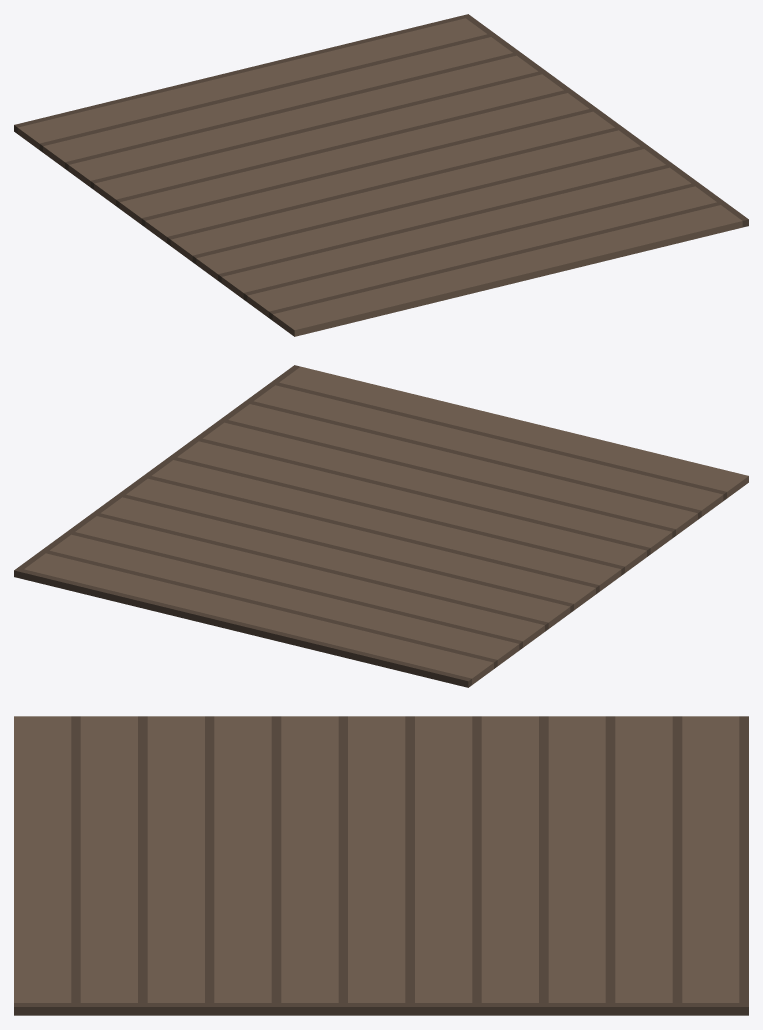
Rendered from tutorial.vox-28-floor_kitchen.obj.
The picture shows the model from 3 angles, top to bottom: view 1: azimuth 30°, elevation 25°; view 2: azimuth 150°, elevation 25°; view 3: azimuth 270°, elevation 25°; orthographic projection. The views are drawn at different scales.
Parts seen in each view (by area): view 1: floor_kitchen; view 2: floor_kitchen; view 3: floor_kitchen.
Boxes of the visible parts, x1,y1,x2,y2 form: floor_kitchen: [14, 14, 748, 336]; floor_kitchen: [14, 365, 748, 687]; floor_kitchen: [14, 716, 748, 1015].
Size of the model in its own units: 7.2 by 0.1 by 7.7.
1 material, 1 textured.
